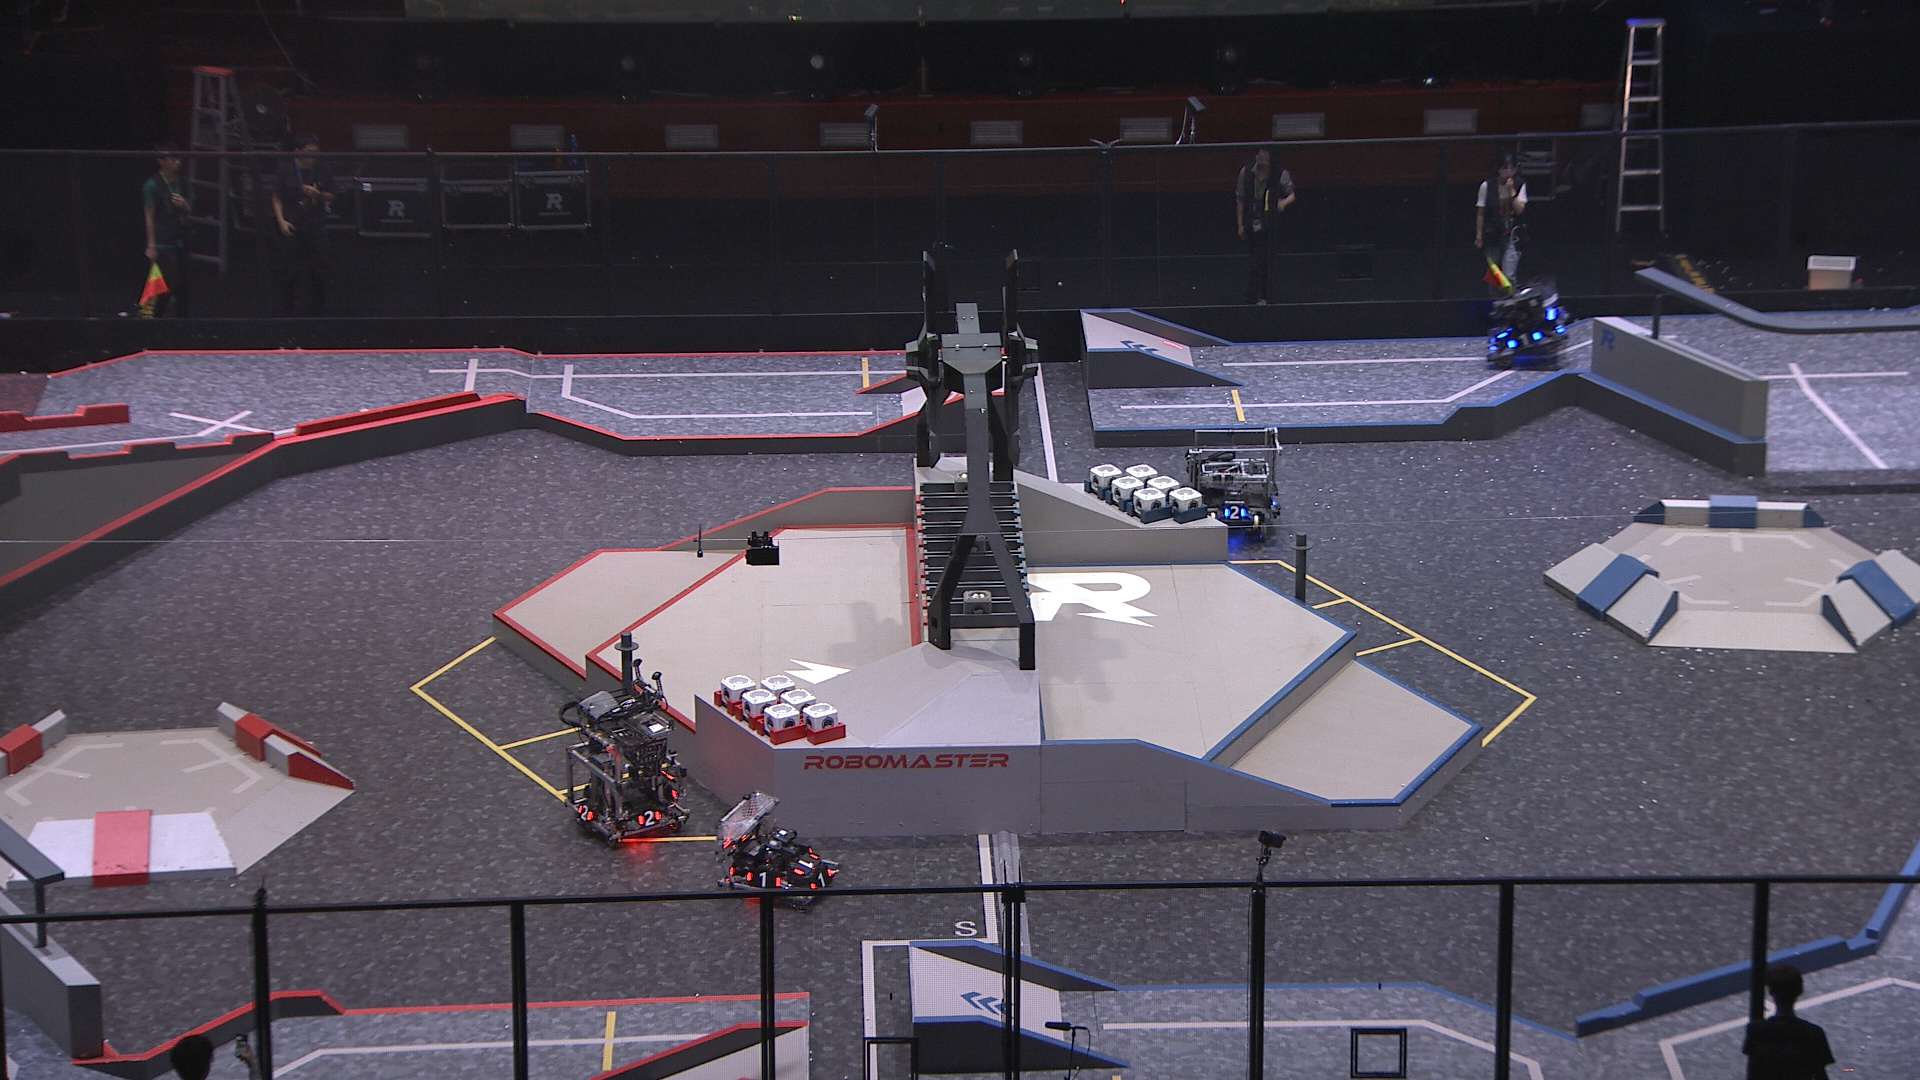armor: (1509, 328, 1542, 353), (745, 870, 783, 889), (793, 853, 822, 877), (811, 869, 835, 891), (637, 807, 661, 827), (1222, 502, 1247, 520), (576, 800, 595, 823)
car: (560, 683, 694, 847), (712, 793, 843, 913), (1182, 425, 1283, 545), (1485, 277, 1575, 368)
